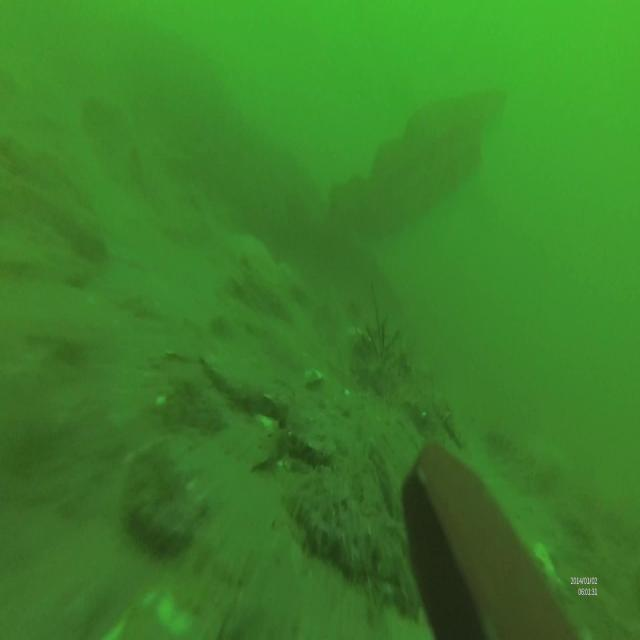holothurian: (204, 358, 292, 426), (288, 434, 329, 470)
starfish: (226, 233, 282, 291)
